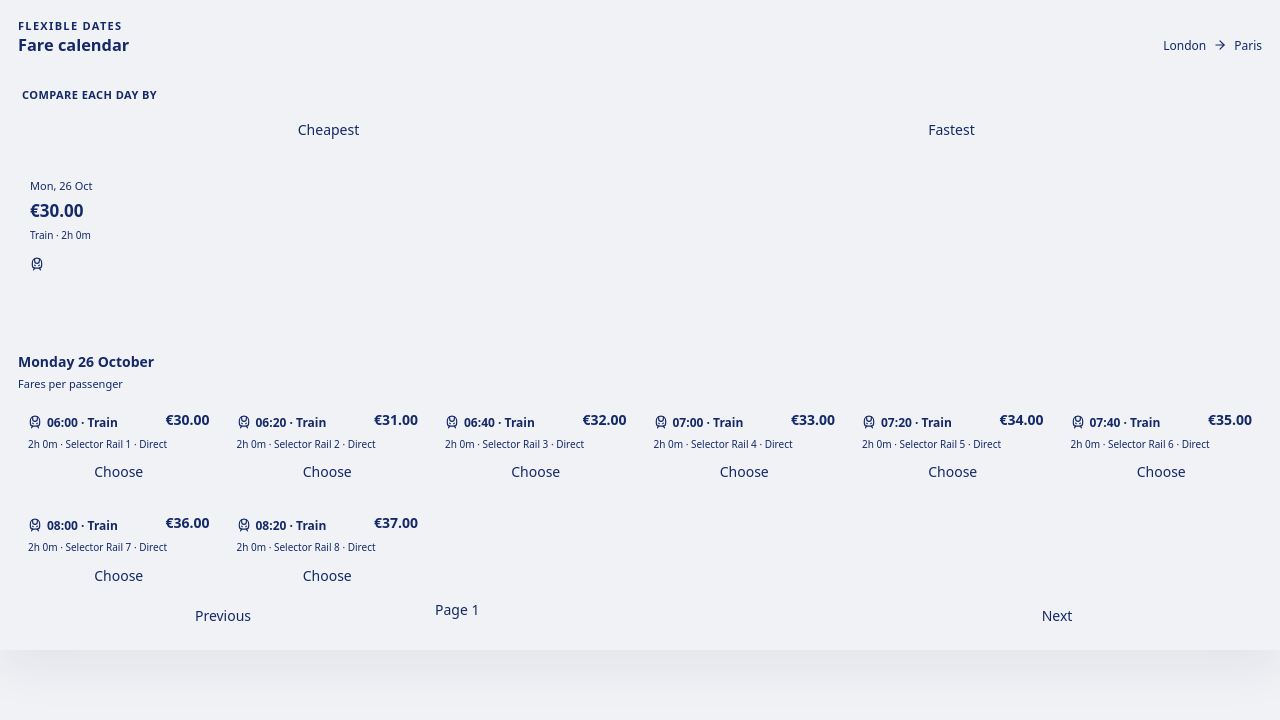
Test: interactive selector pagination › reaches a second active-day FareCalendar page with a separate display record
Click the button "Next": [1057, 616] box [852,600,1262,632]
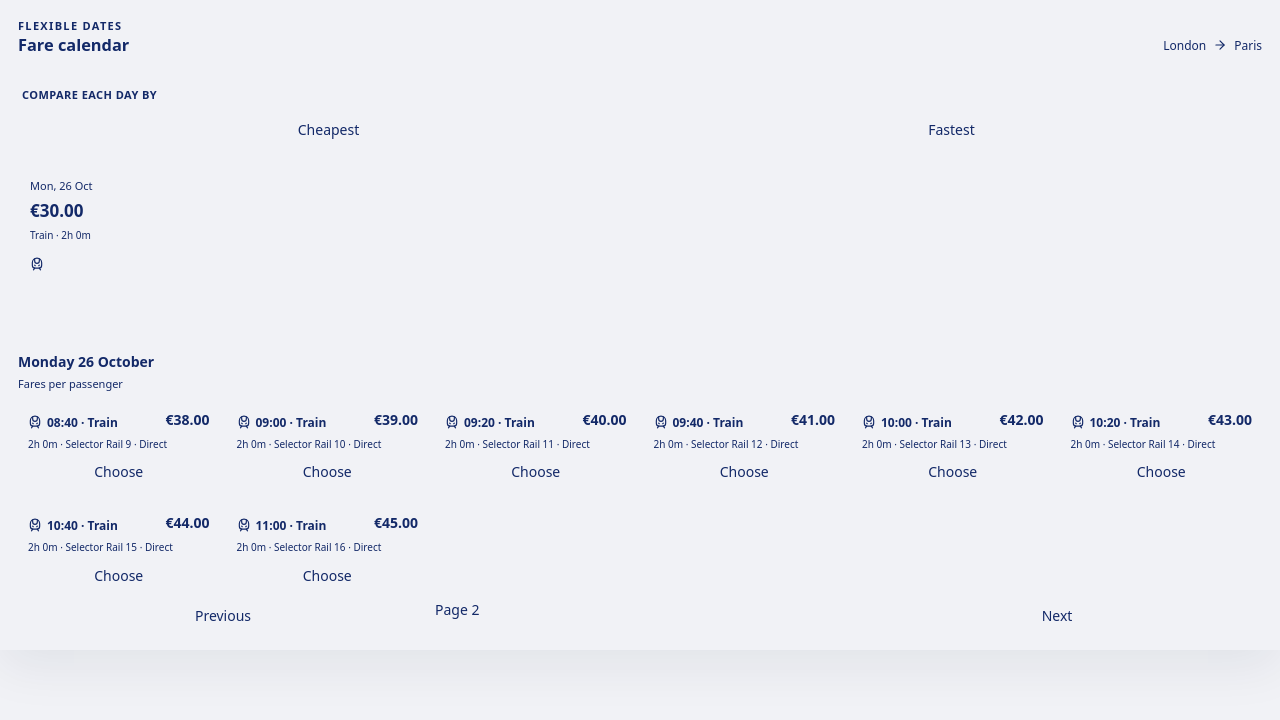
Check: the text "Page 2" is shown, box [435,600,480,619]
